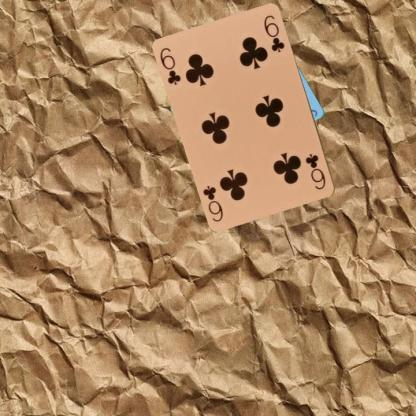6c: (158, 45, 182, 87), (303, 151, 327, 191)
